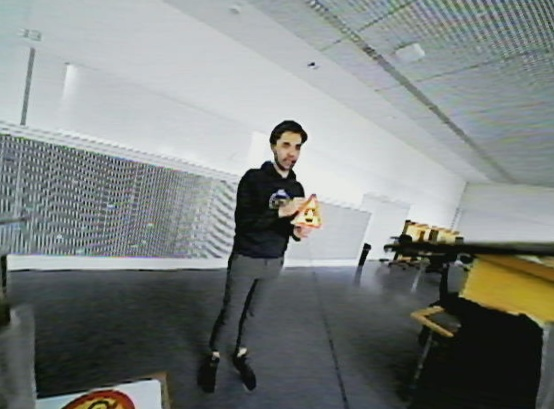roundabout_warning: (292, 191, 323, 234)
